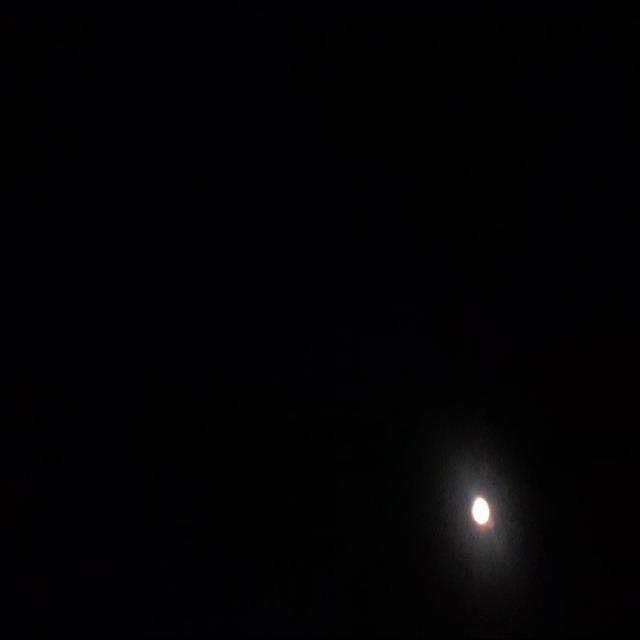moon: (468, 493, 491, 526)
